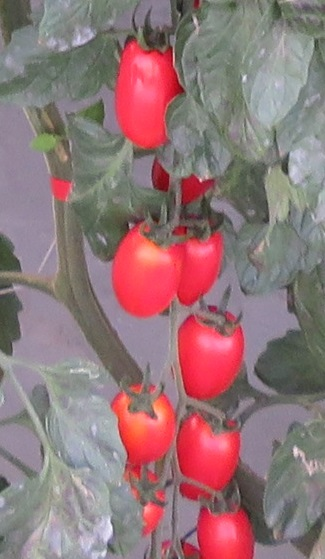red: (116, 42, 181, 151), (111, 224, 181, 320), (180, 412, 250, 504), (178, 313, 247, 402), (112, 381, 178, 461), (178, 223, 230, 306), (190, 497, 253, 559), (117, 466, 168, 536), (149, 155, 216, 204)
